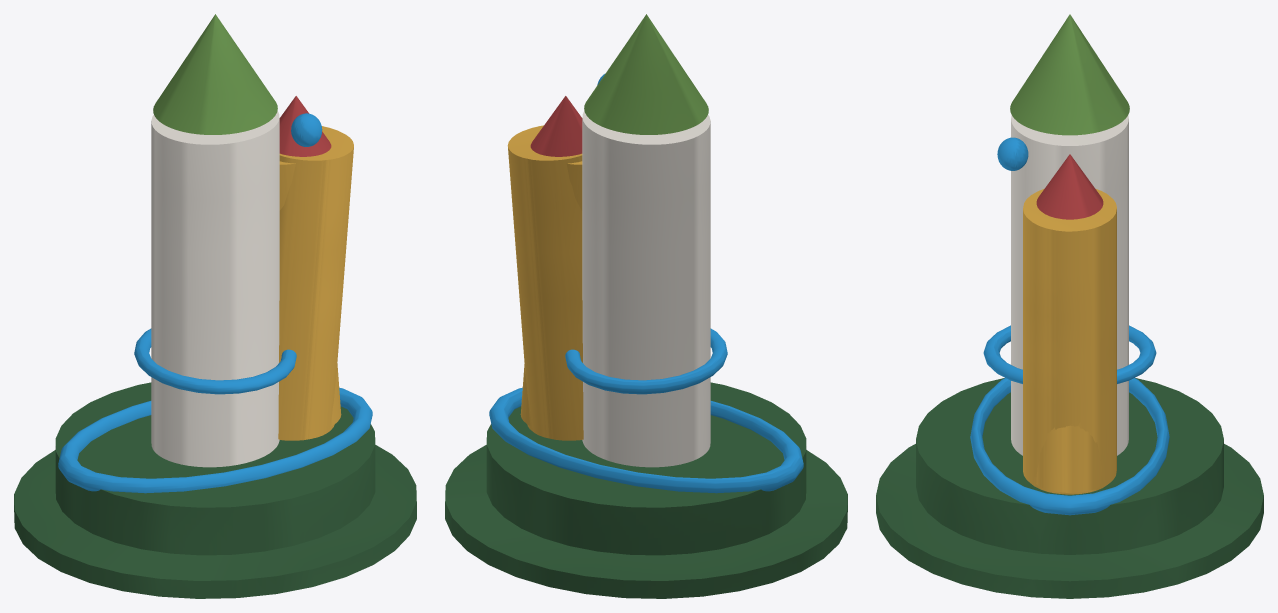
Rendered from 0532_岩石矿物图鉴_石膏.glb.
The picture shows the model from 3 angles, left to right: view 1: azimuth 30°, elevation 25°; view 2: azimuth 150°, elevation 25°; view 3: azimuth 270°, elevation 25°; orthographic projection.
Visible parts, largest first — view 1: card_0532; view 2: card_0532; view 3: card_0532.
Part boxes in pixels (x1=…): card_0532: x1=14, y1=14, x2=416, y2=598; card_0532: x1=445, y1=14, x2=847, y2=598; card_0532: x1=876, y1=14, x2=1263, y2=598.
Bounding box in the file's own units: 0.7385 × 1 × 0.7046.
